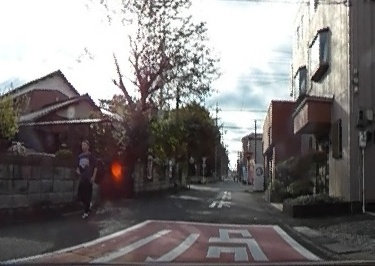person: (77, 138, 98, 216)
